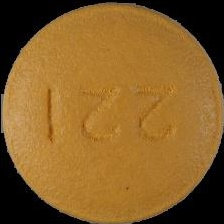67046-640: (0, 0, 224, 224)
